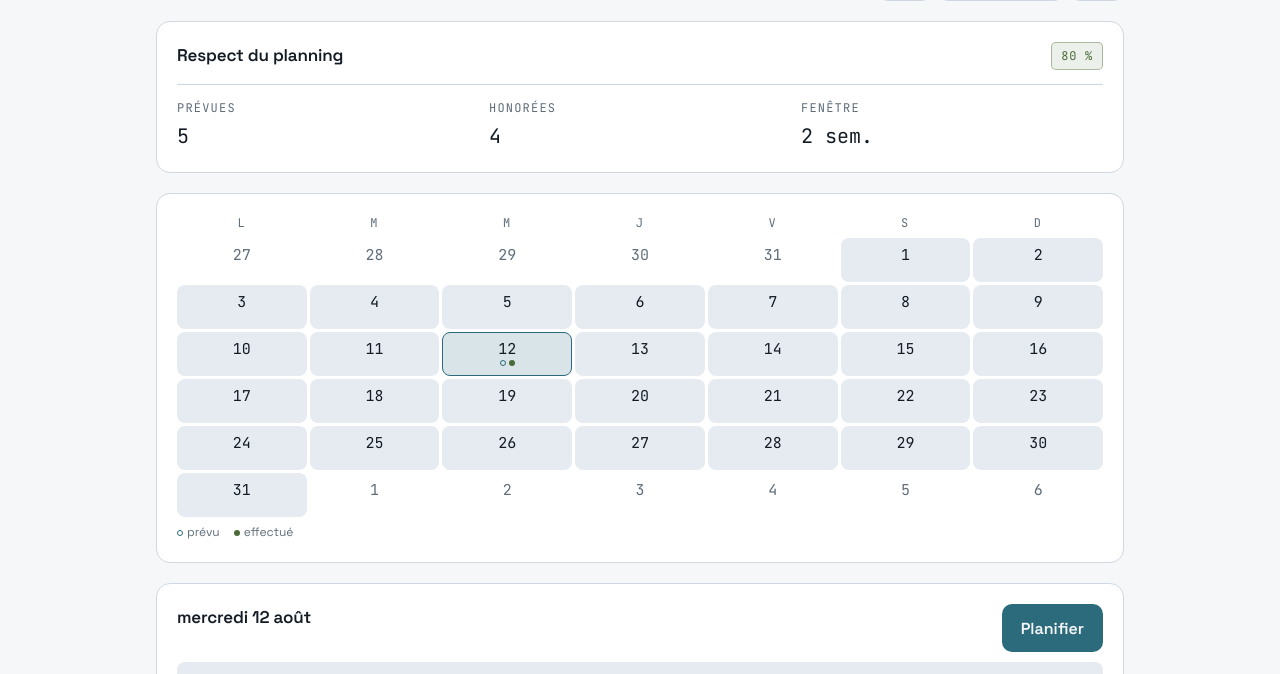
Test: saisie manuelle › pré-remplit le formulaire avec le jour sélectionné
Expected: the table is shown, [177, 214, 1103, 542]
Click the button named "jeudi 20 août" at (640, 402), box [575, 380, 705, 424]
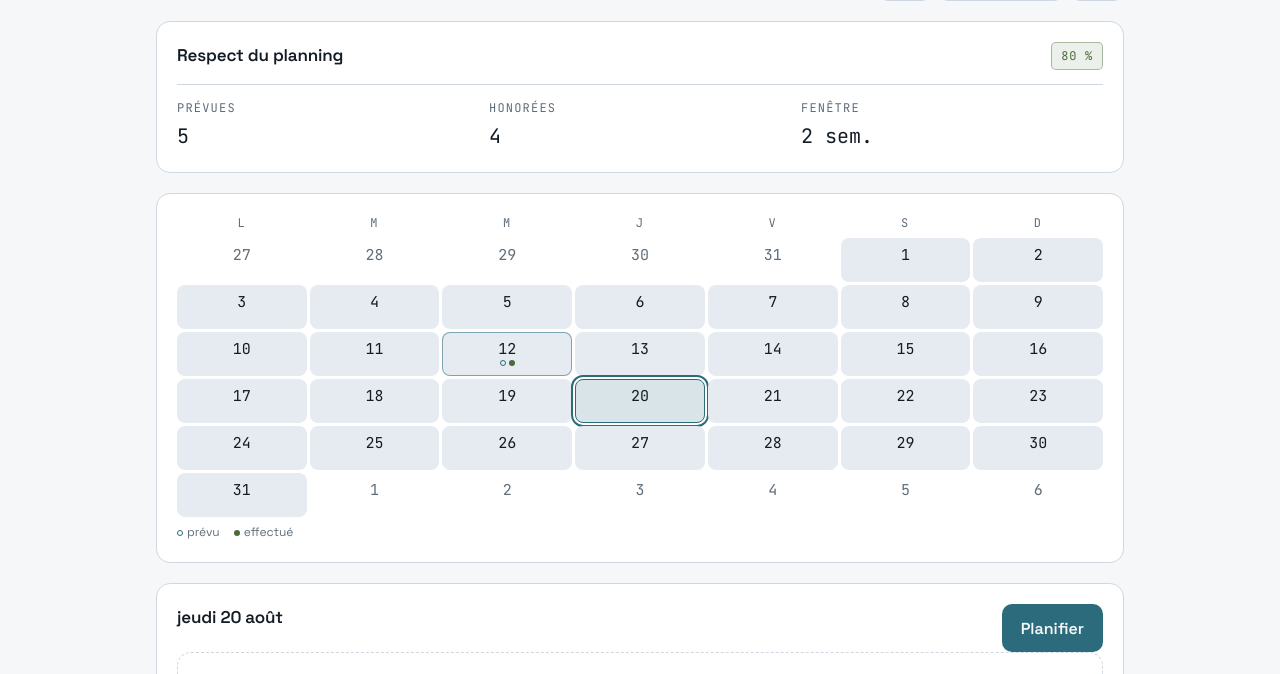
Click the button "Planifier" at (1052, 628), box [1002, 604, 1103, 652]
(page scrolled)
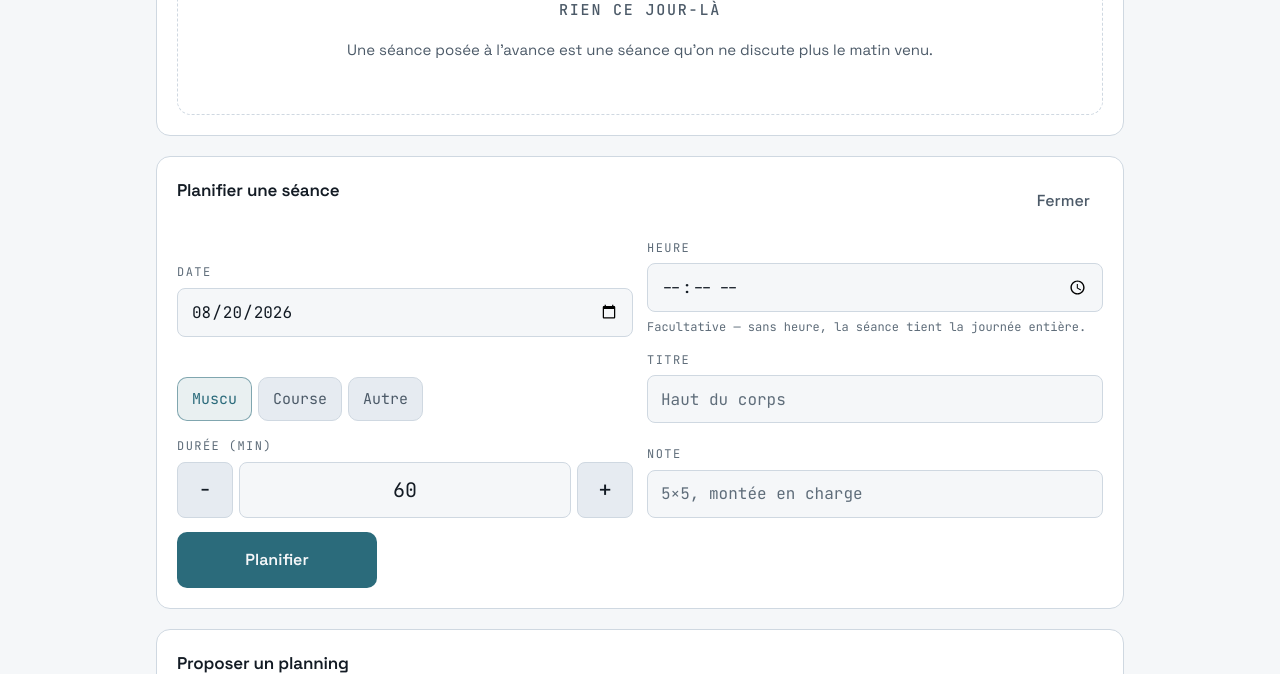
Expected: the date field labelled "Date" holds "2026-08-20", [177, 288, 633, 337]
